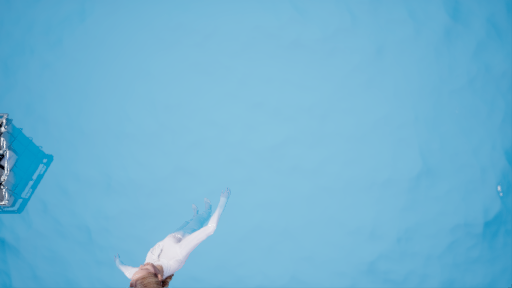person: (100, 189, 250, 281)
